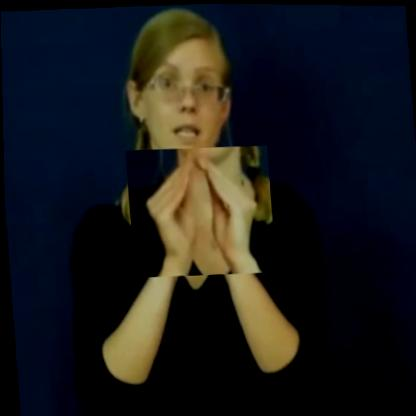Fix: (124, 142, 275, 278)
